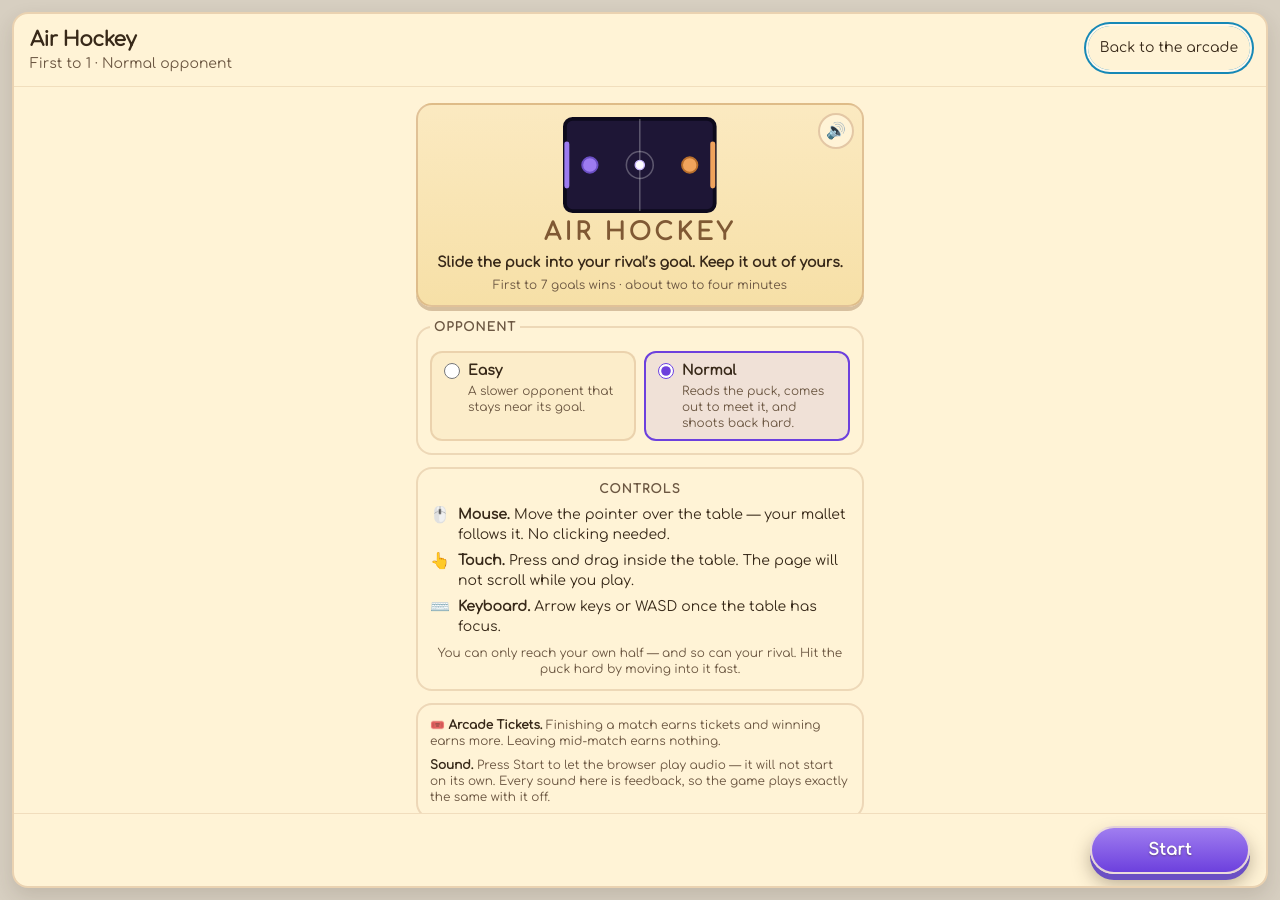
starting a match › opens the table with the score at nil-nil
Click the button "Start": (1170, 850) [1090,826,1250,874]
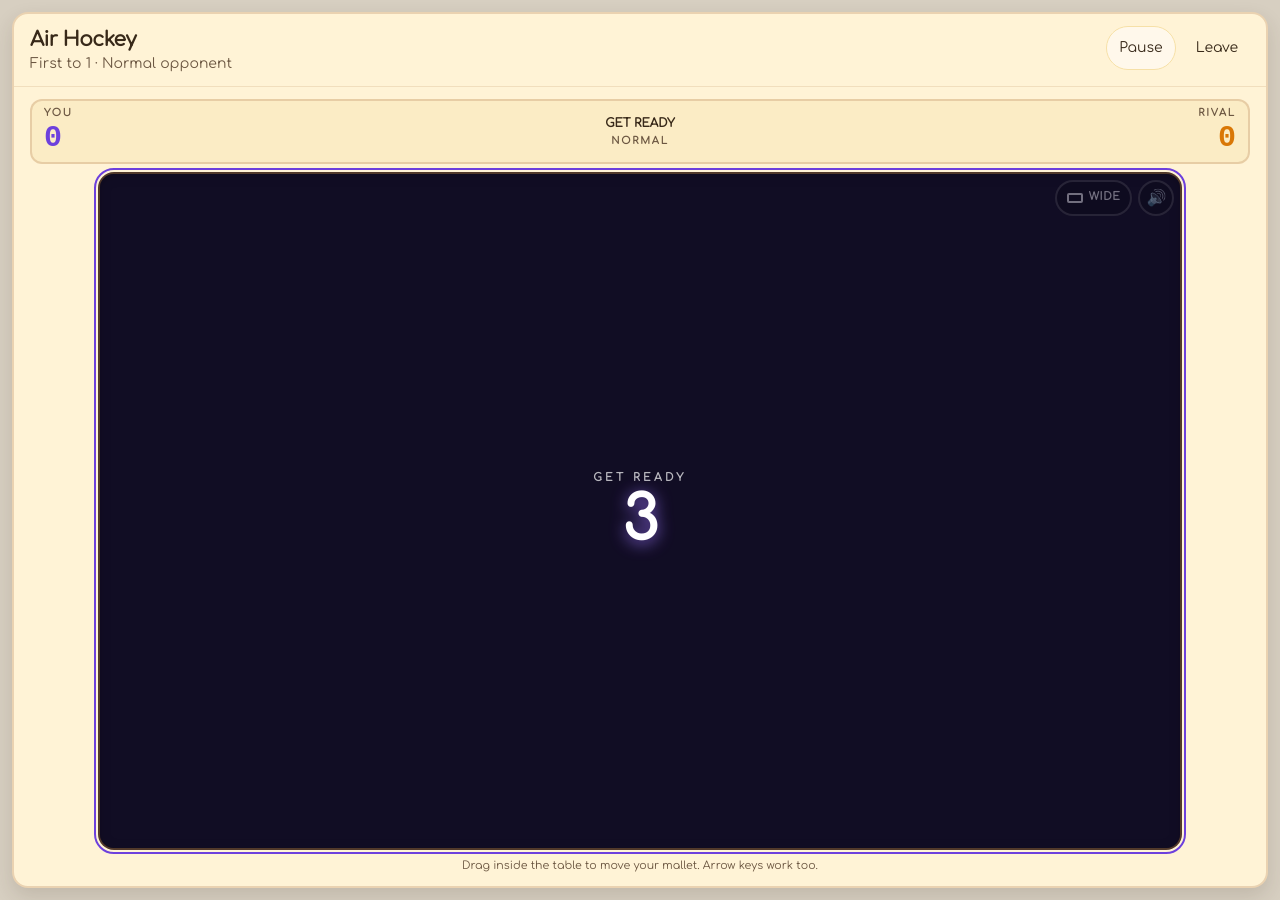
Expected: the element showing "Wide 🔊 Get ready 3" is shown
Expected: the 1st text "0" is shown, [44,120,62,154]
Expected: the text "0" below "Rival" is shown, [1218,120,1236,154]
